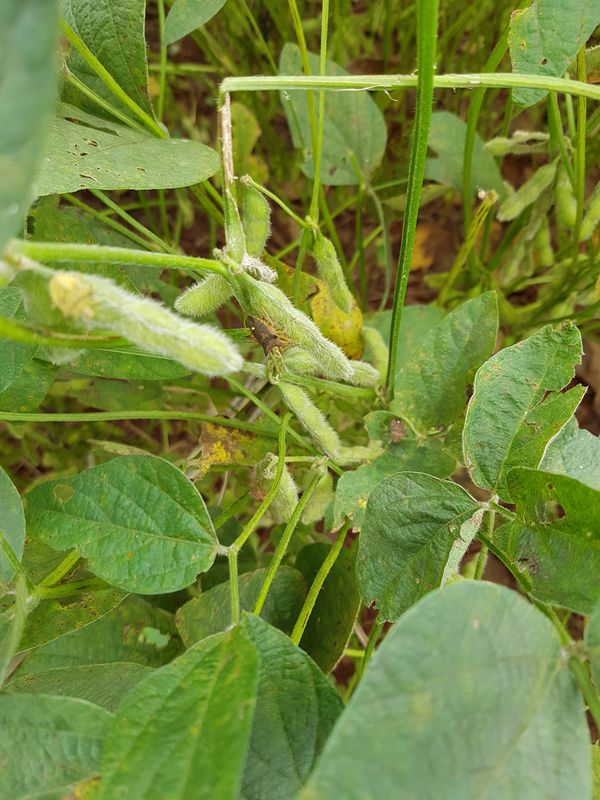Euschistus_heros_adulto: (232, 300, 301, 365), (379, 412, 415, 452)
